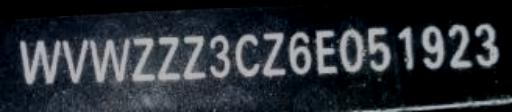letter: (16, 38, 62, 85), (88, 37, 130, 85), (364, 23, 394, 73), (232, 30, 262, 78), (60, 37, 90, 85), (260, 27, 288, 77), (156, 34, 184, 84), (472, 23, 502, 68), (446, 21, 474, 69), (337, 26, 365, 74), (287, 26, 313, 76), (314, 26, 340, 76), (181, 32, 207, 82), (420, 23, 446, 71), (129, 35, 155, 83), (208, 31, 232, 79), (396, 23, 416, 73)
